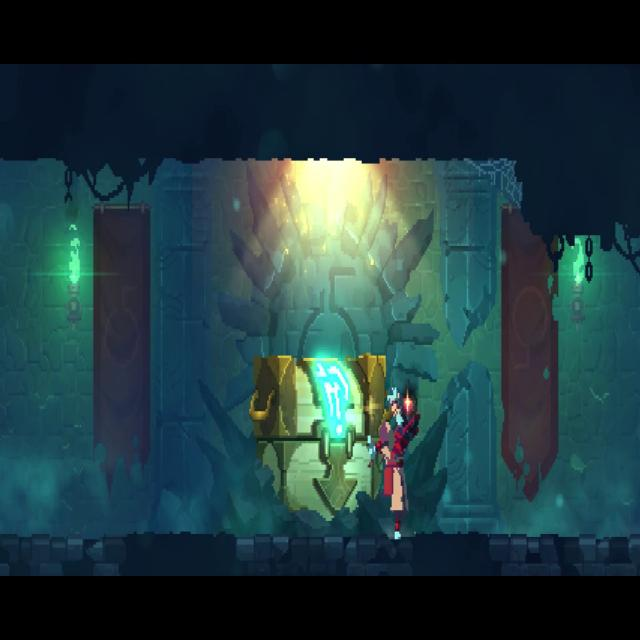agents: (369, 388, 422, 508)
